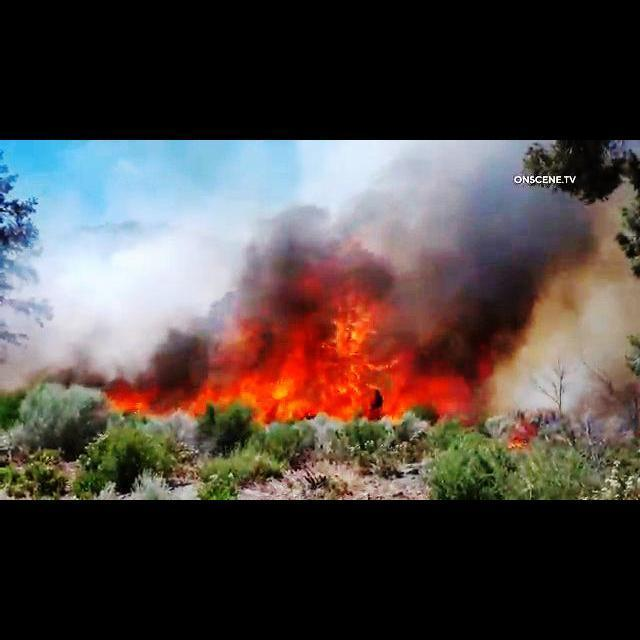Fire: (228, 249, 496, 419), (88, 380, 202, 440), (507, 424, 541, 454)
Smoke: (500, 192, 640, 420), (42, 232, 216, 368)
